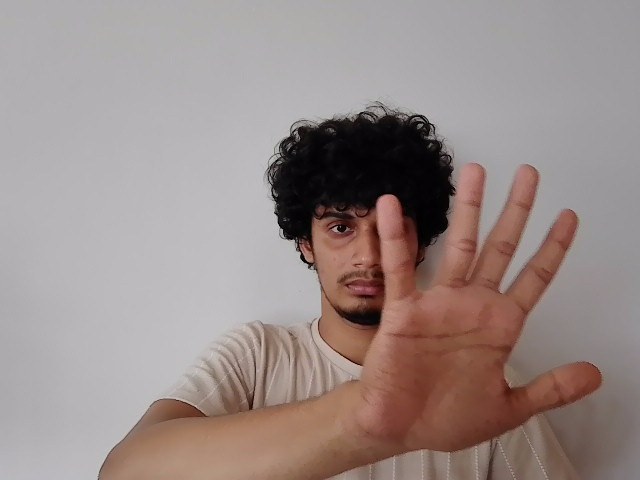goodbye: (366, 160, 603, 450)
